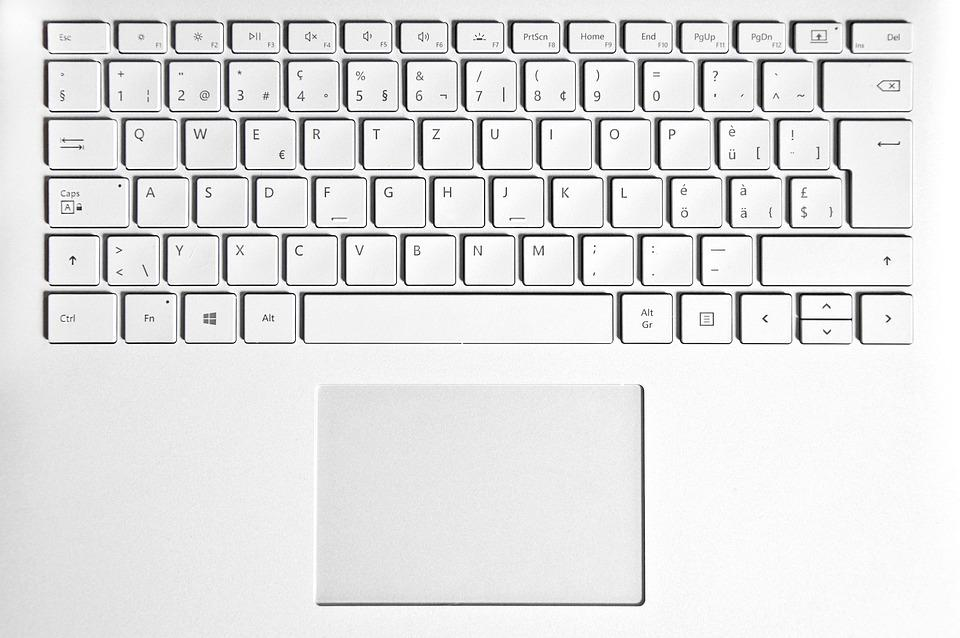0: (638, 56, 693, 110)
1: (103, 56, 159, 110)
2: (163, 56, 220, 110)
3: (223, 55, 278, 110)
4: (283, 55, 337, 110)
5: (342, 55, 396, 110)
6: (402, 55, 455, 110)
7: (461, 56, 515, 110)
8: (519, 56, 573, 110)
9: (578, 56, 632, 110)
a: (132, 172, 186, 225)
accent: (758, 56, 813, 110)
alt-left: (239, 288, 295, 342)
altgr-right: (616, 289, 673, 342)
b: (399, 230, 454, 284)
c: (281, 230, 335, 284)
comma: (577, 230, 632, 284)
d: (251, 173, 305, 226)
del: (819, 56, 912, 111)
e: (239, 114, 294, 168)
enter: (836, 115, 912, 228)
f: (310, 172, 364, 226)
g: (370, 173, 424, 225)
h: (429, 172, 482, 226)
i: (536, 114, 589, 167)
j: (489, 172, 542, 226)
k: (548, 172, 601, 226)
keyboard: (31, 8, 923, 360)
l: (607, 173, 661, 226)
less: (101, 230, 158, 284)
m: (521, 233, 575, 286)
minus: (696, 231, 751, 283)
n: (463, 234, 517, 288)
o: (594, 114, 648, 168)
p: (654, 114, 708, 168)
point: (637, 231, 692, 283)
q: (119, 114, 174, 167)
r: (299, 114, 352, 167)
s: (192, 173, 245, 226)
shift-left: (43, 231, 98, 284)
shift-lock: (40, 172, 129, 226)
shift-right: (760, 232, 915, 287)
space: (299, 288, 613, 344)
strg-left: (39, 288, 116, 342)
t: (358, 114, 412, 167)
tab: (41, 113, 115, 168)
u: (476, 114, 531, 168)
v: (340, 230, 395, 284)
w: (180, 113, 233, 168)
x: (222, 230, 276, 283)
y: (162, 230, 217, 284)
z: (417, 114, 471, 168)
